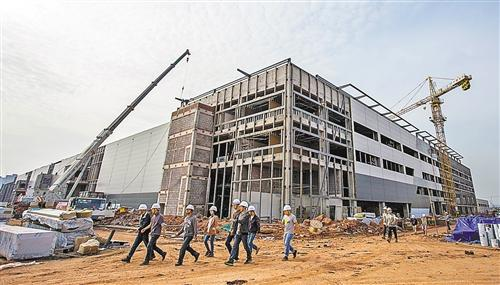helmet: (138, 204, 149, 212), (152, 203, 162, 211), (283, 205, 293, 213), (186, 205, 196, 212), (233, 199, 241, 207), (240, 202, 250, 208), (249, 206, 257, 213), (210, 207, 218, 213), (388, 208, 393, 212), (411, 216, 415, 220), (423, 214, 427, 218), (383, 207, 388, 210)
